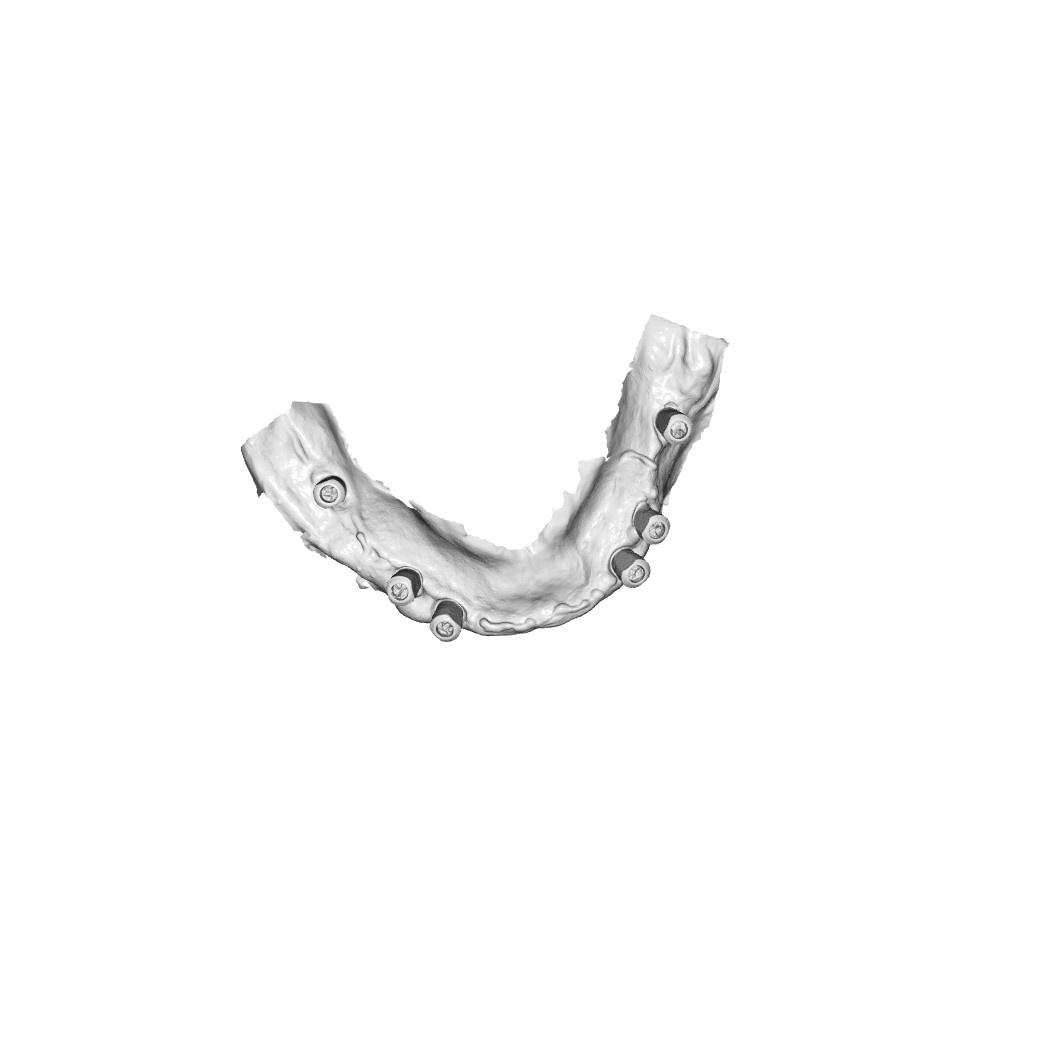implant: (632, 507, 674, 548), (655, 407, 695, 449), (613, 549, 651, 592), (313, 469, 348, 513), (429, 603, 466, 644), (387, 567, 424, 607)
